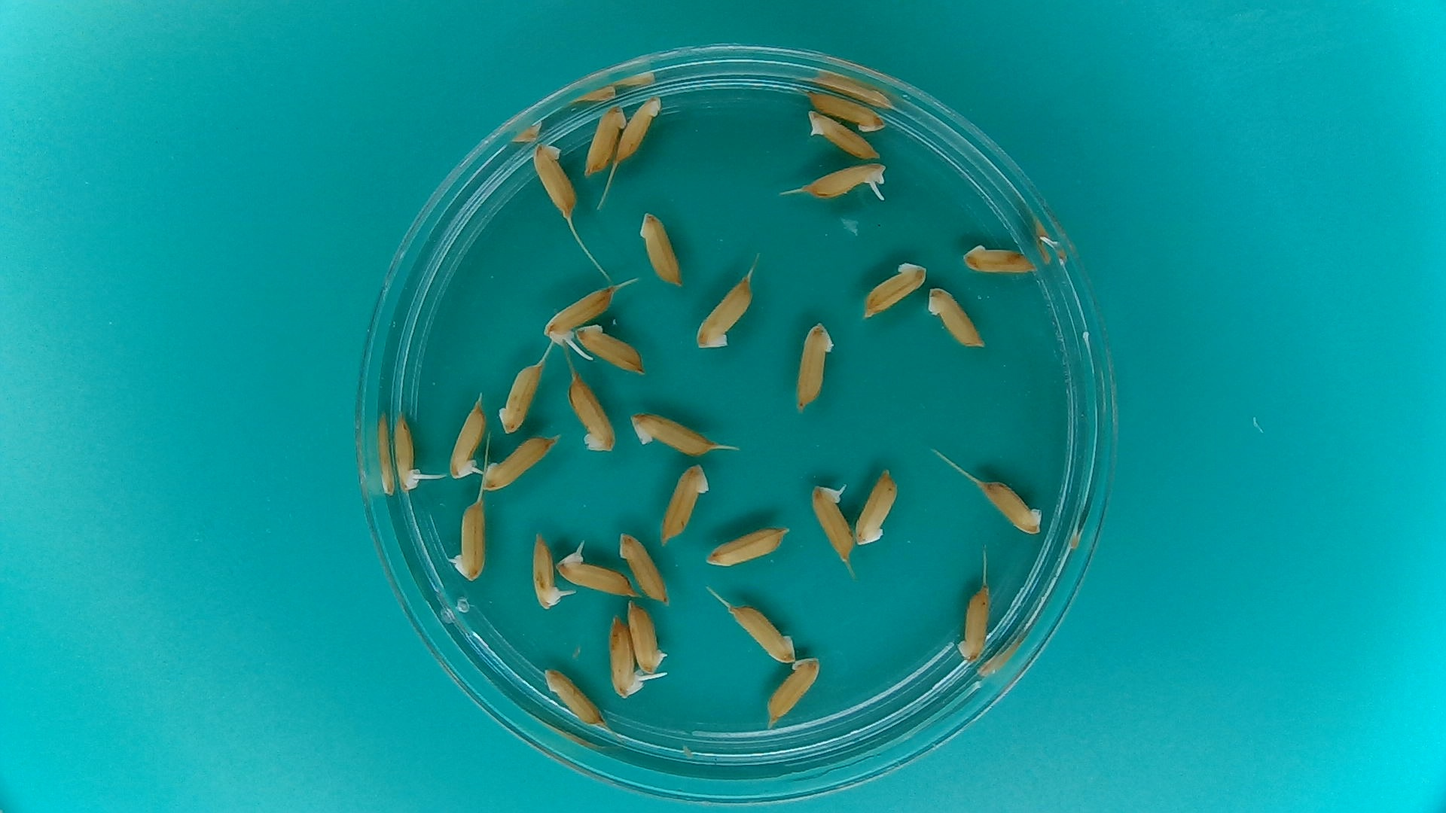no: (691, 263, 759, 354), (787, 315, 839, 419), (563, 367, 620, 457), (655, 458, 712, 546), (626, 406, 726, 456), (722, 599, 797, 665), (856, 257, 931, 321), (575, 321, 650, 381), (540, 663, 607, 730), (923, 283, 987, 353), (975, 474, 1045, 537), (480, 435, 557, 492), (529, 138, 578, 224), (803, 111, 884, 163), (764, 657, 824, 727), (636, 207, 686, 291), (493, 357, 545, 437), (853, 460, 900, 548), (703, 522, 789, 569), (801, 87, 888, 132), (614, 89, 661, 166), (625, 597, 670, 676), (584, 102, 629, 180), (954, 580, 994, 665), (618, 532, 664, 604), (959, 239, 1040, 279)
yes: (544, 285, 617, 341), (810, 485, 859, 565), (449, 494, 489, 583), (447, 391, 485, 480), (803, 163, 885, 201), (604, 617, 642, 698), (559, 556, 633, 596), (529, 527, 565, 607), (392, 408, 421, 495)
